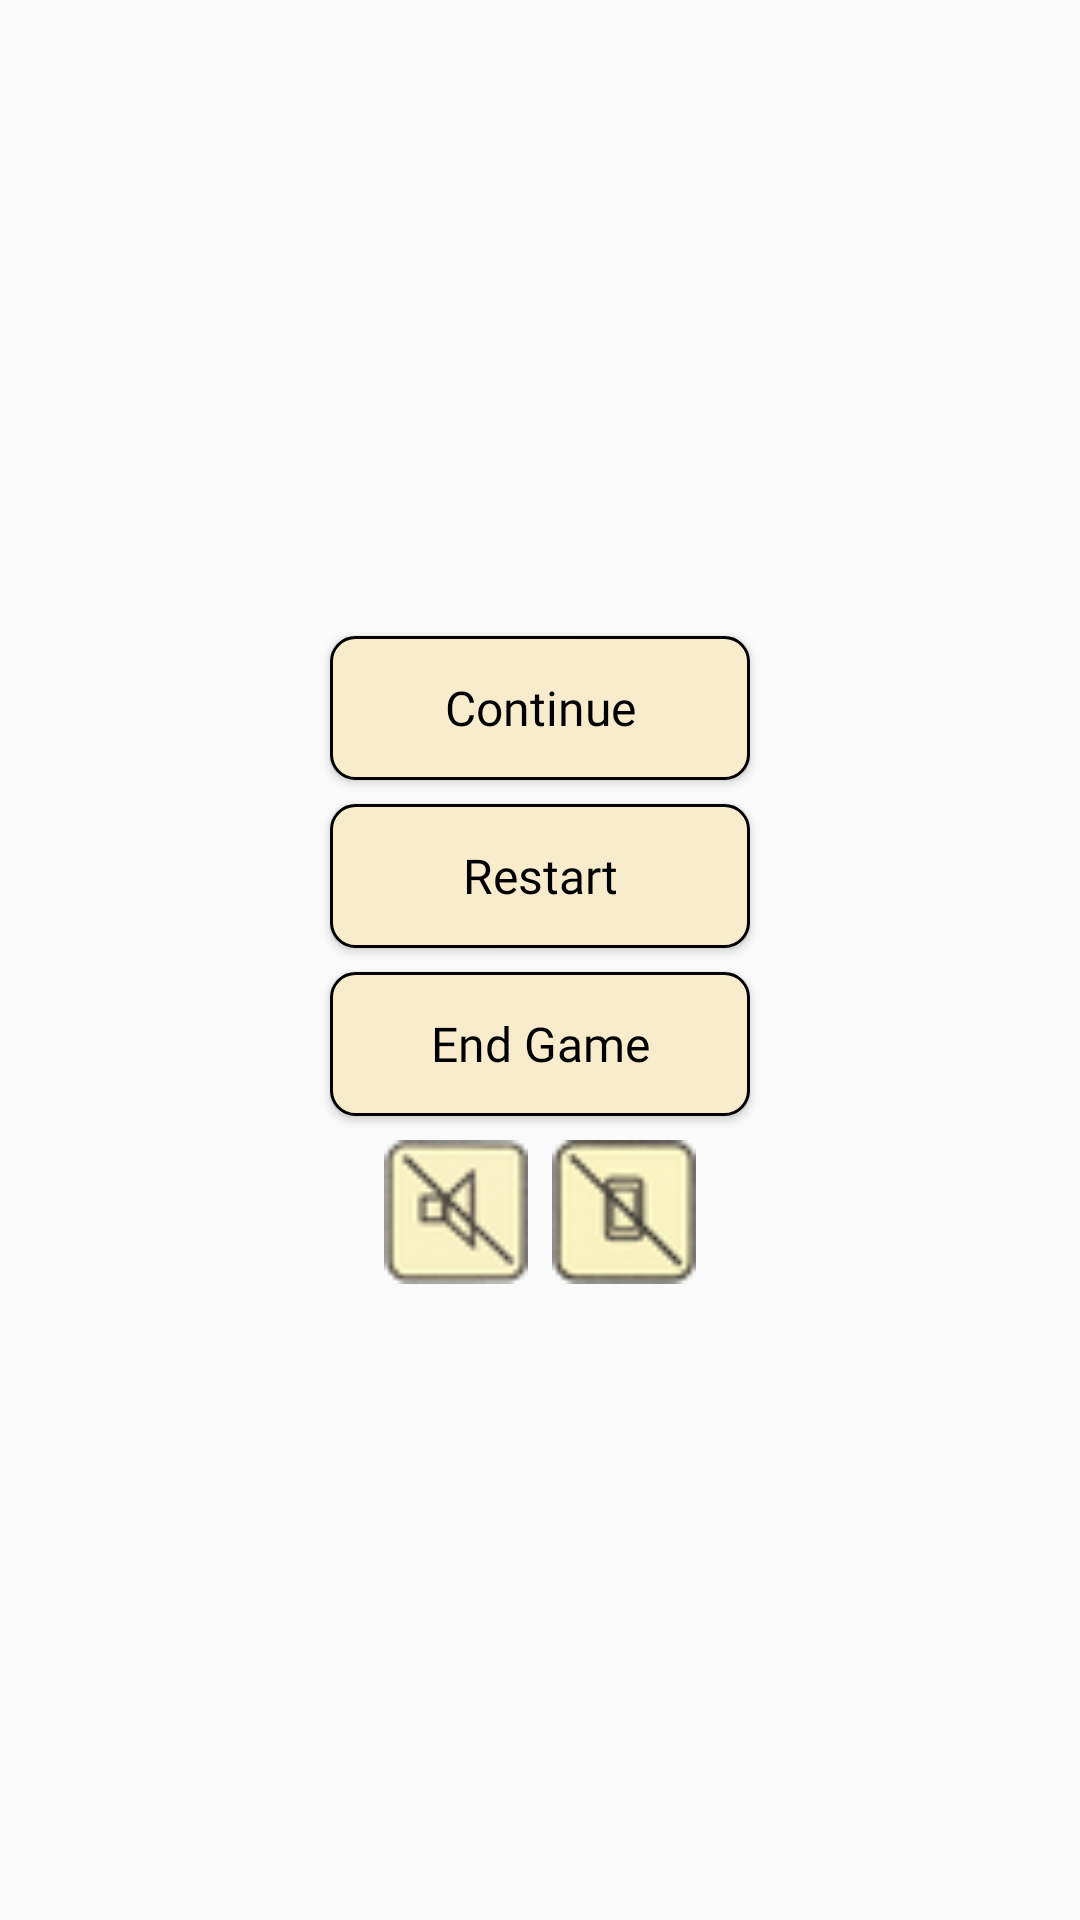

Named icons in this screenshot (1080x1920) and their centers, [x,y]:
Sound: [456,1212]
Vibration: [624,1212]
